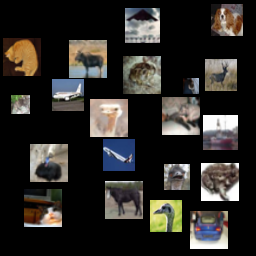airplane: (125, 8, 160, 43), (103, 139, 135, 171), (52, 79, 84, 111)
automobile: (190, 211, 228, 249)
bird: (90, 99, 128, 137), (30, 144, 68, 182), (150, 200, 182, 232), (164, 164, 190, 190)
cat: (162, 97, 200, 135), (3, 38, 41, 76), (24, 189, 62, 227), (11, 95, 30, 114), (183, 78, 199, 94)
deer: (69, 40, 107, 78), (205, 59, 237, 91)
dog: (211, 4, 243, 36)
frog: (123, 56, 161, 94), (201, 163, 239, 201)
ship: (203, 115, 238, 150)
